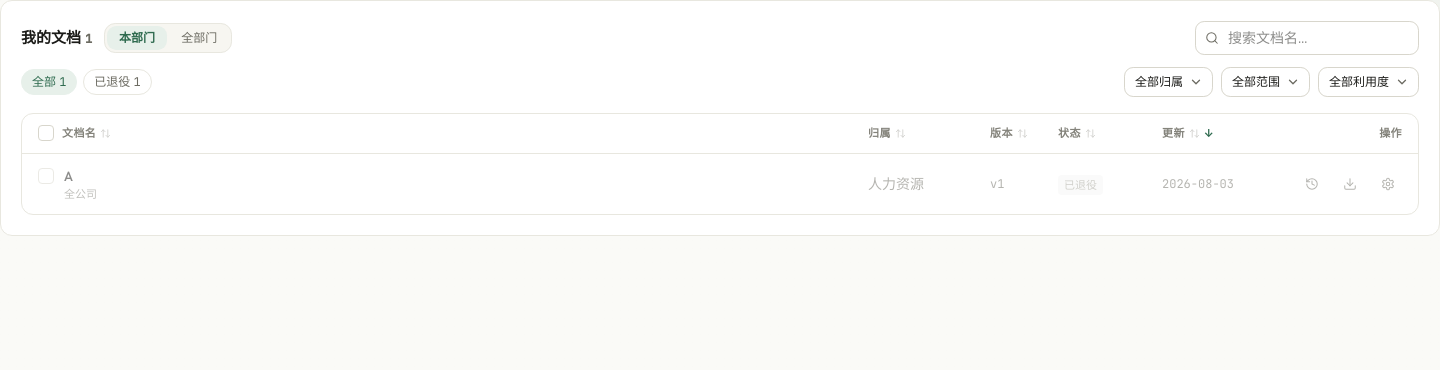
Test: 行级菜单：公开文档的退役/恢复按钮前置禁用 › 已退役的公开文档：dept_admin 的「恢复上线」同样前置禁用（后端 kb_restore 也 403）
Click the button named "更多操作".
click(1388, 184)  # box left=1374, top=170, right=1402, bottom=198
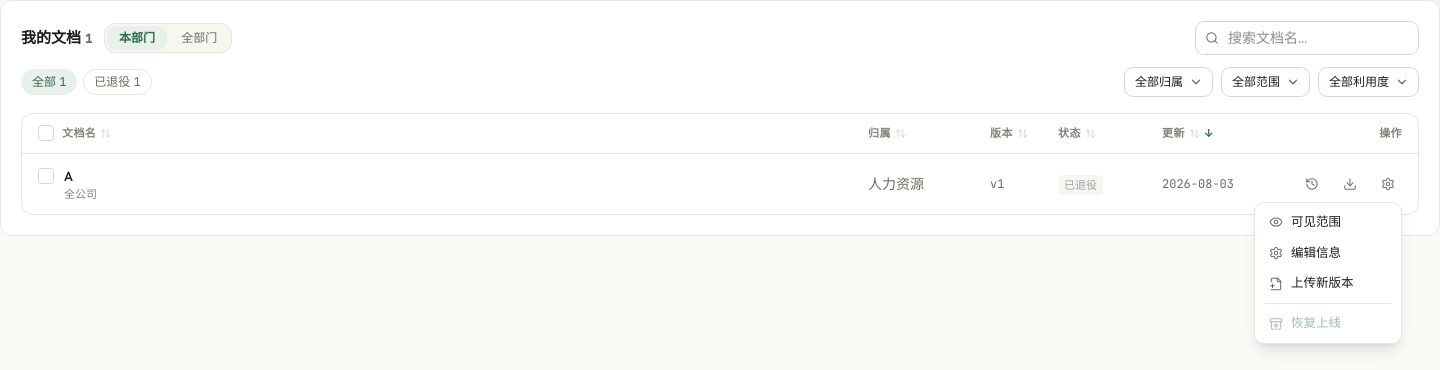
Check: the menu item with test id "doc-restore" is disabled, box left=1259, top=308, right=1397, bottom=339
